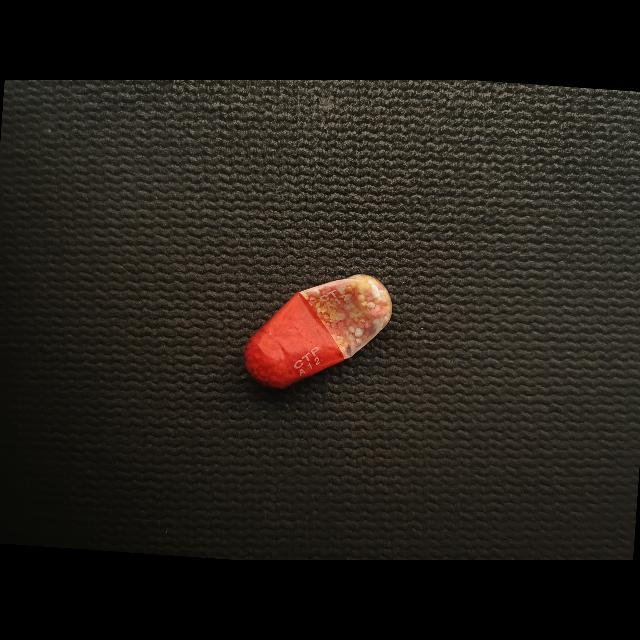Defective Capsule: (244, 274, 392, 389)
